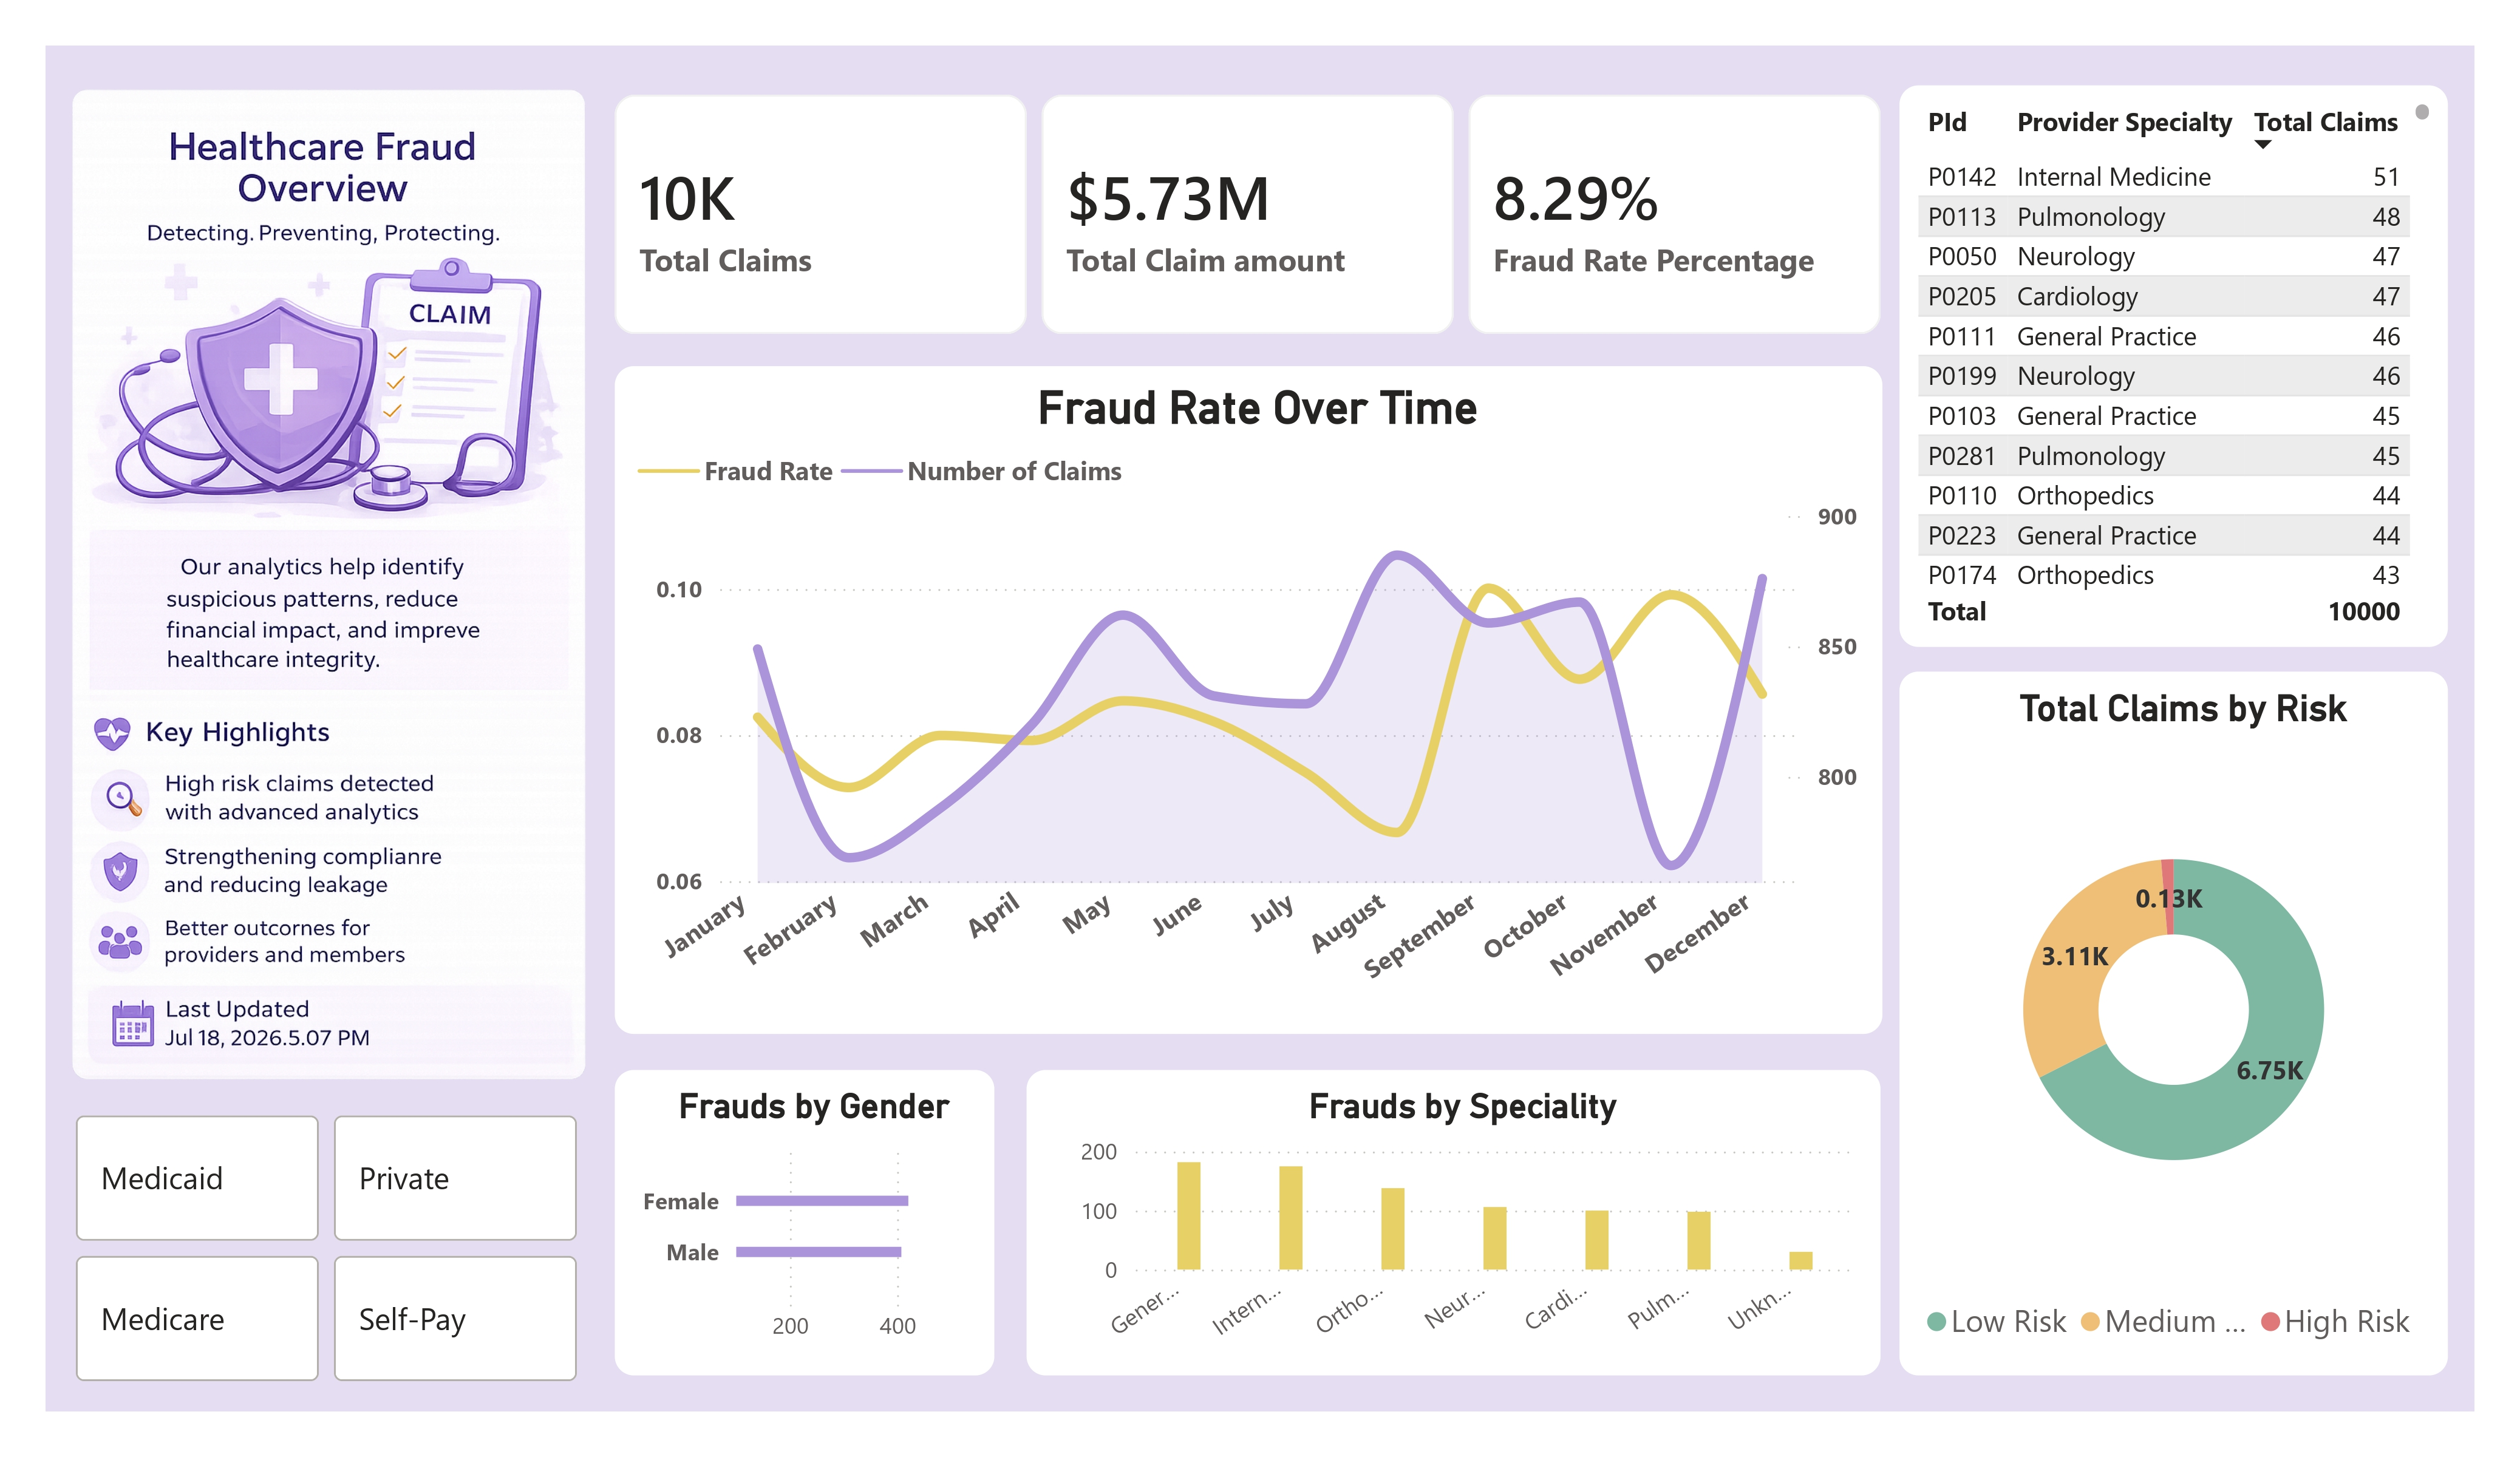

This screenshot's page, from the dashboard's own definition file:
{"tool":"powerbi","page":{"name":"Page 1","canvas":[1280,720],"ordinal":0},"visuals":[{"type":"cardVisual","fields":{"Data":["public claims_with_risk.Total Claims","public claims_with_risk.Total Claim amount","public claims_with_risk.Fraud Rate Percentage"]},"box":[300,20.9,667.4,136],"z":0},{"type":"lineChart","title":"Fraud Rate Over Time","fields":{"Category":["public claims_with_risk.claim_submission_date.Variation.Date Hierarchy.Month"],"Y":["Avg(public claims_with_risk.is_fraud)"],"Y2":["CountNonNull(public claims_with_risk.claim_id)"]},"box":[300,168.9,667.8,352.2],"z":1000},{"type":"donutChart","fields":{"Category":["public claims_with_risk.risk_label"],"Y":["public claims_with_risk.Total Claims"]},"box":[977.3,330,288.7,371.3],"z":2000},{"type":"tableEx","fields":{"Values":["public claims_with_risk.provider_id","public claims_with_risk.provider_specialty","public claims_with_risk.Total Claims"]},"box":[977.3,21.3,288.7,296],"z":3000},{"type":"columnChart","title":"Frauds by Speciality","fields":{"Category":["public claims_with_risk.provider_specialty"],"Y":["Sum(public claims_with_risk.is_fraud)"]},"box":[517.4,539.5,450,161.6],"z":4000},{"type":"clusteredBarChart","title":"Frauds by Gender","fields":{"Category":["public claims_with_risk.patient_gender"],"Y":["Sum(public claims_with_risk.is_fraud)"]},"box":[300,539.5,200,161.6],"z":5000},{"type":"image","box":[12.2,12.2,273.3,545.6],"z":6000},{"type":"advancedSlicerVisual","fields":{"Values":["public claims_with_risk.insurance_type"]},"box":[11.4,558.6,274.3,150],"z":7000}]}

Visuals, with their boxes on the page's 1280x720 design canvas (x1, y1, x2, y2). These are canvas units, not pixel positions in the 2520x1457 screenshot, which may show the page scaled, cropped or inside an application window:
cardVisual - public claims_with_risk.Total Claims x public claims_with_risk.Total Claim amount: select_region(300, 21, 967, 157)
"Fraud Rate Over Time" lineChart: select_region(300, 169, 968, 521)
donutChart - public claims_with_risk.risk_label x public claims_with_risk.Total Claims: select_region(977, 330, 1266, 701)
tableEx - public claims_with_risk.provider_id x public claims_with_risk.provider_specialty: select_region(977, 21, 1266, 317)
"Frauds by Speciality" columnChart: select_region(517, 540, 967, 701)
"Frauds by Gender" clusteredBarChart: select_region(300, 540, 500, 701)
image: select_region(12, 12, 286, 558)
advancedSlicerVisual - public claims_with_risk.insurance_type: select_region(11, 559, 286, 709)
